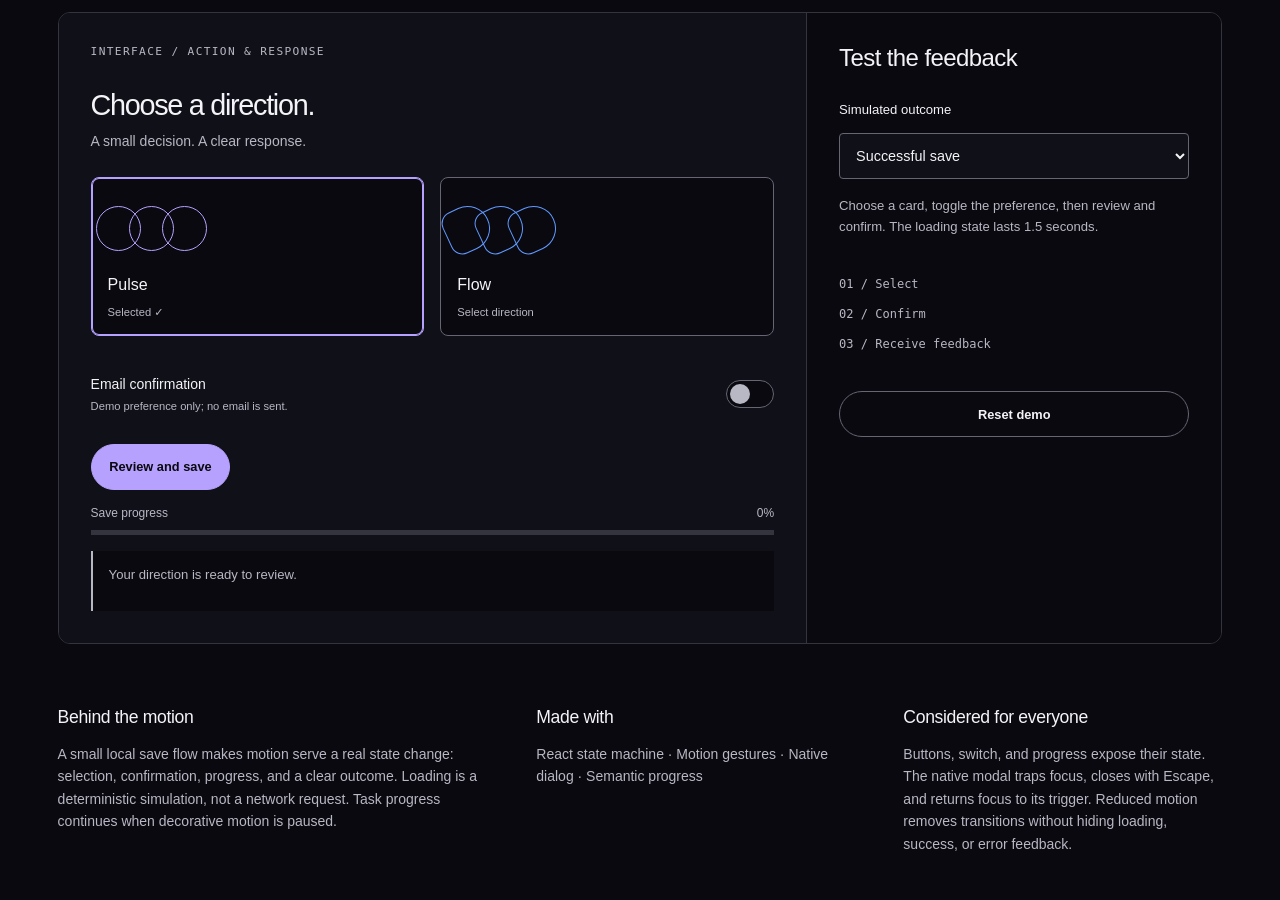
Interaction lab › cancels the modal without starting a job
This screenshot has width=1280, height=900.
(page scrolled)
Step 1. Click the button "Review and save" → x=160, y=467, box x1=91 y1=444 x2=230 y2=490
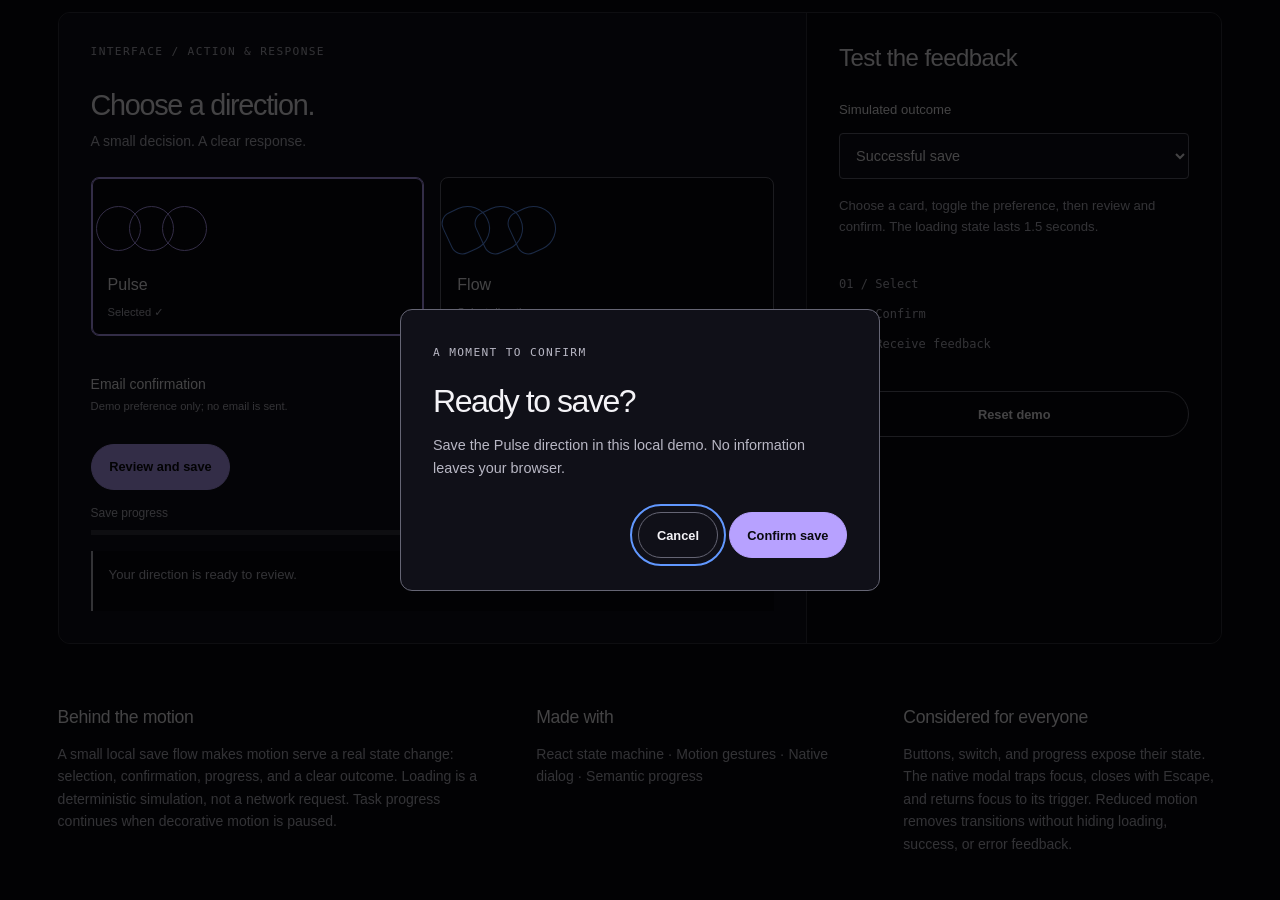
Step 2. Click the button "Cancel" → x=678, y=535, box x1=638 y1=512 x2=718 y2=558
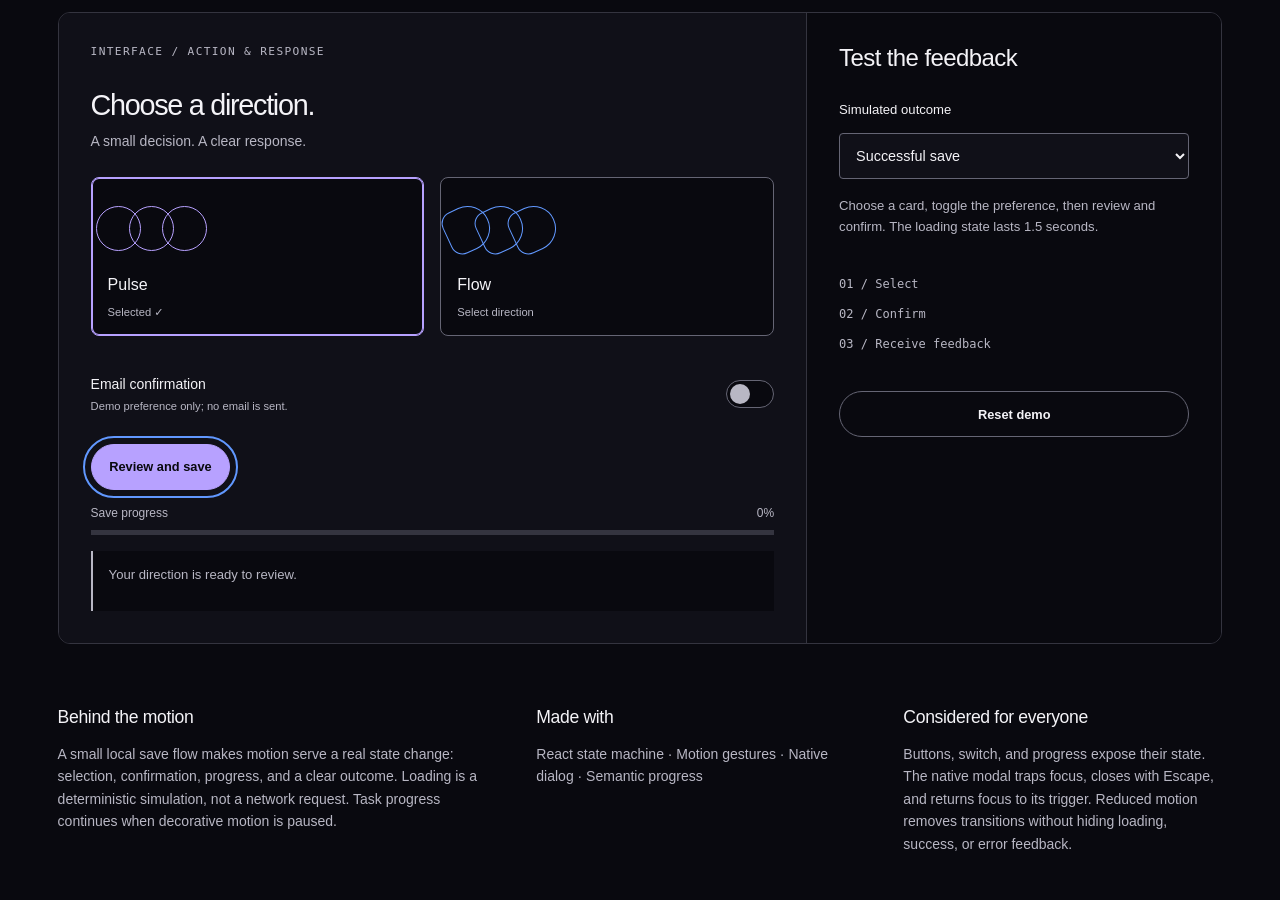
expect the progress indicator named "Save progress" holds "0": met, box x1=91 y1=530 x2=774 y2=535
expect the dialog is gone: met
